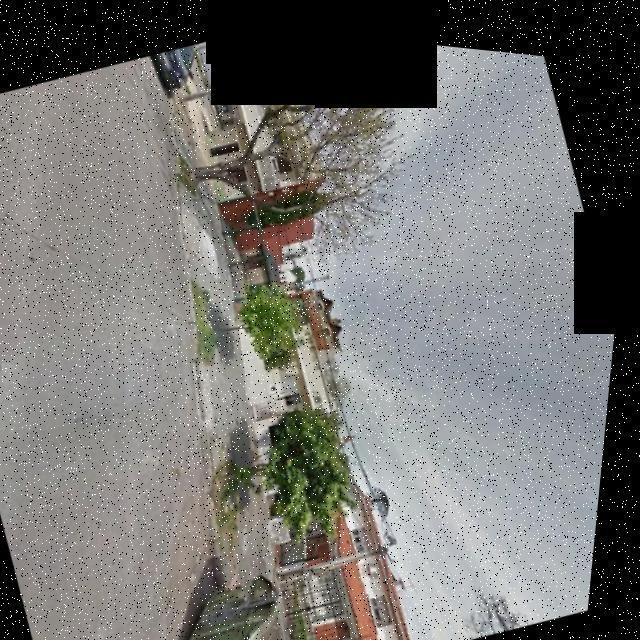bin: (141, 534, 333, 640)
